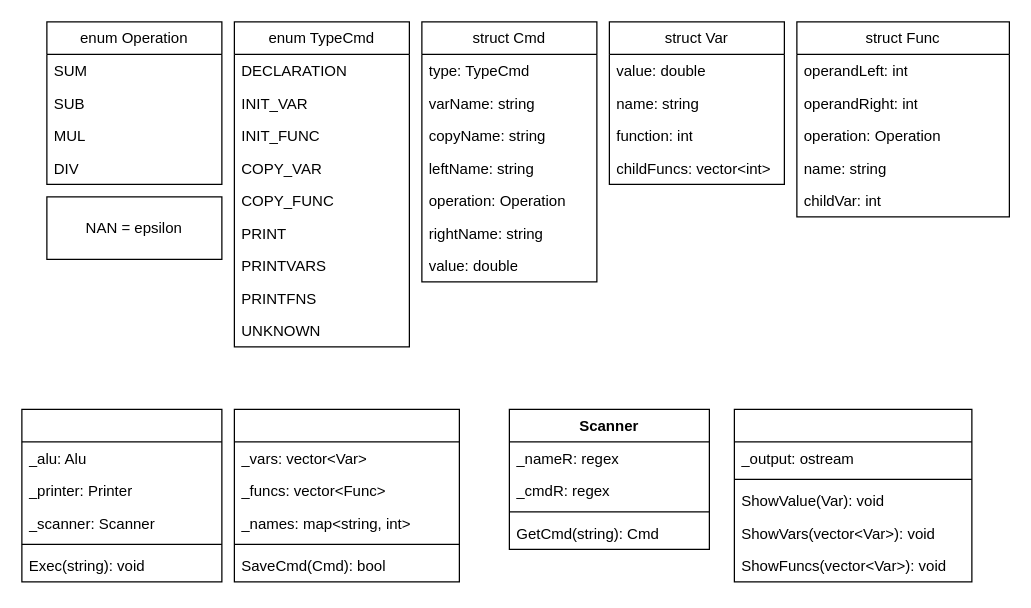
Image size: 1031x608. Some labels were removed from this diagram. The box of each missing label's shape, as (x1, y1, x2, y2) in pixels:
Alu: (233, 408, 459, 582)
Calculator: (21, 408, 222, 582)
Printer: (733, 408, 972, 582)
